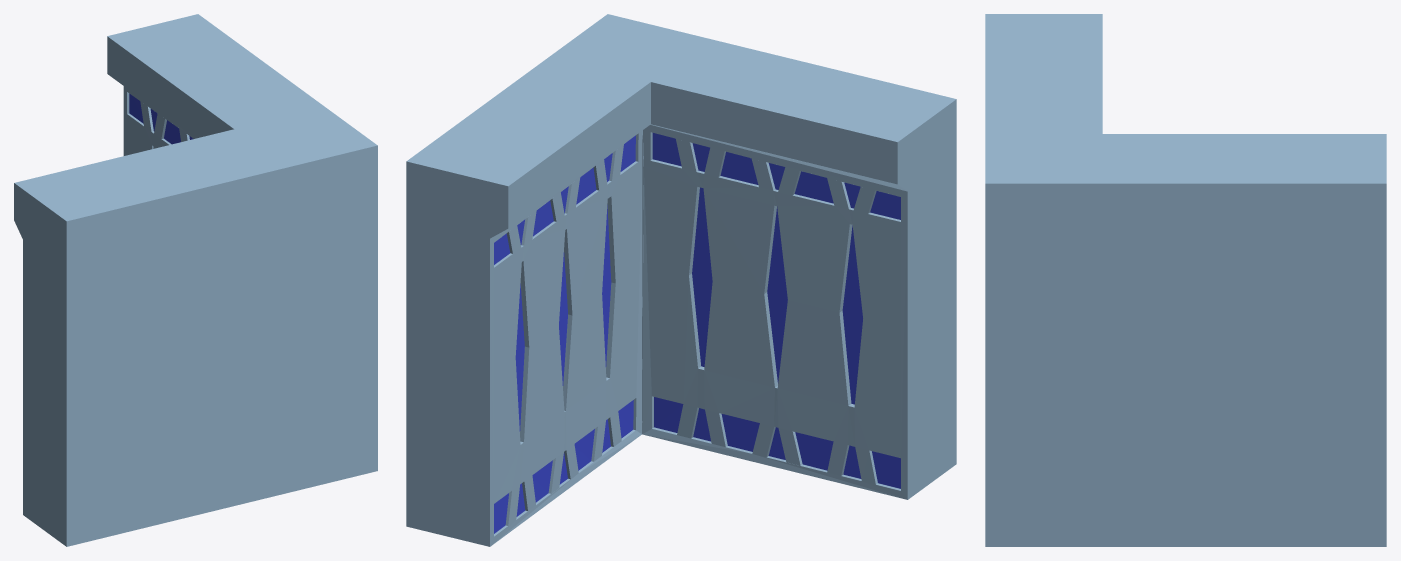
Rendered from EspacioRedSocialEsquinaCierreExteriorNS.gltf.
3 views of the same model, side by side, from view 1: azimuth 30°, elevation 25°; view 2: azimuth 150°, elevation 25°; view 3: azimuth 270°, elevation 25° (orthographic). The views are drawn at different scales.
Visible parts, largest first — view 1: Cubo.39; view 2: Cubo.39; view 3: Cubo.39.
Part boxes in pixels (x1,y1,x2,y2): Cubo.39: (14, 14, 377, 546); Cubo.39: (406, 14, 956, 546); Cubo.39: (985, 14, 1386, 546).
Bounding box in the file's own units: 2 × 2 × 2.
1 material, 1 textured.
